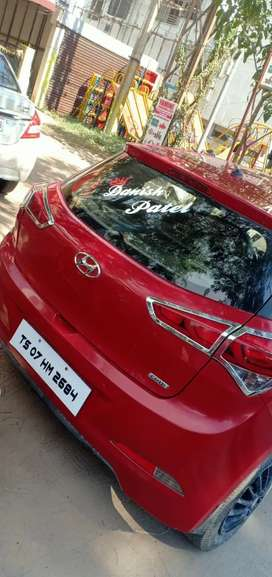TS07HM2684: (9, 318, 92, 417)
